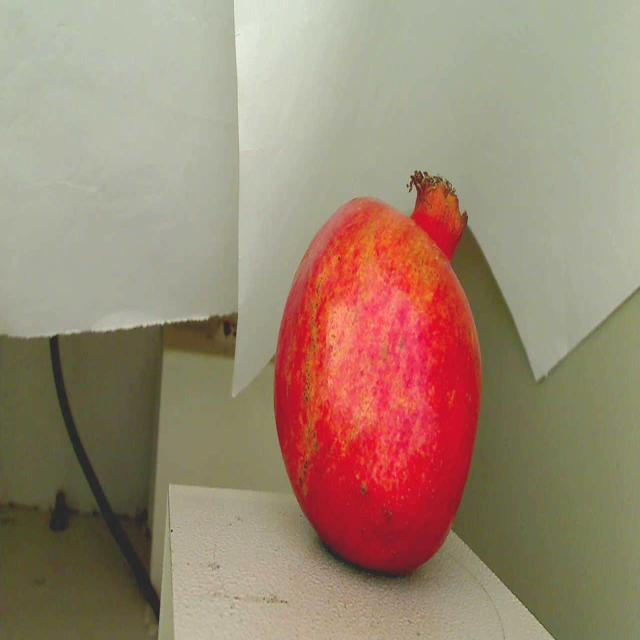pomegranate: (259, 151, 498, 586)
